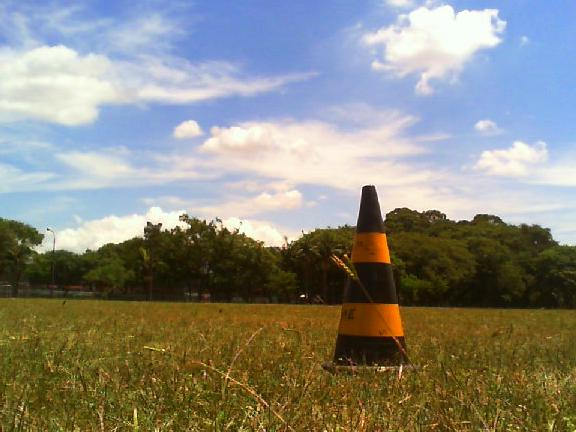0 cone: (321, 185, 418, 371)
